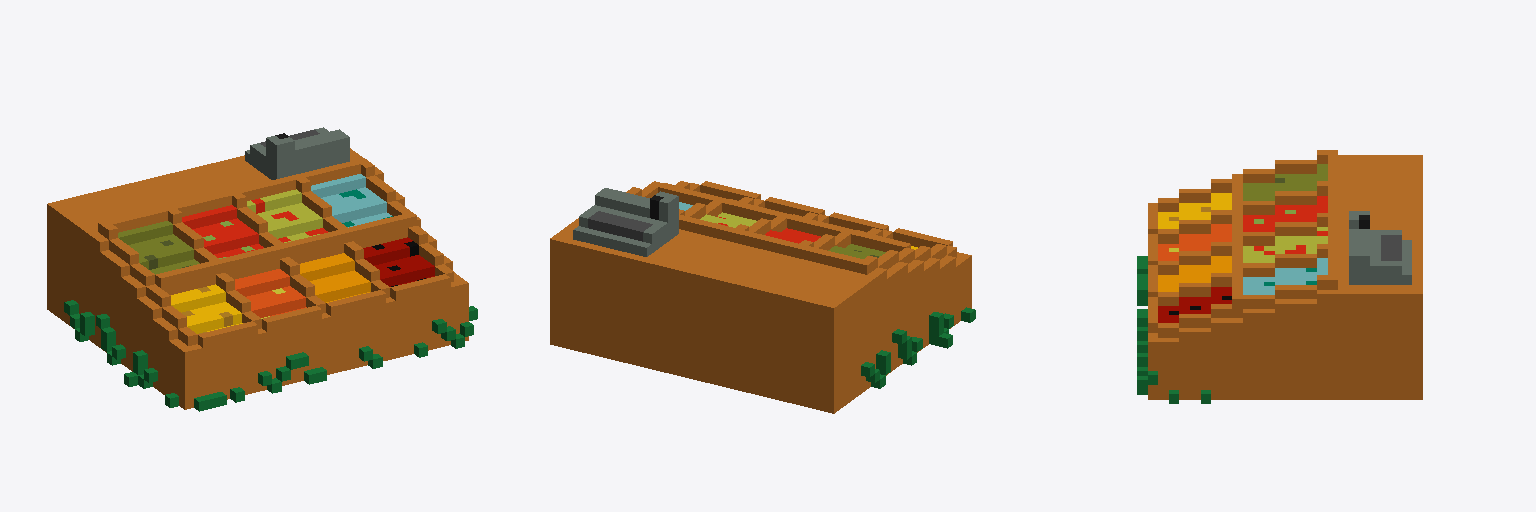
3 renders of one model, left to right at view 1: azimuth 30°, elevation 25°; view 2: azimuth 150°, elevation 25°; view 3: azimuth 270°, elevation 25°, orthographic.
Visible parts, largest first — view 1: object 1; view 2: object 1; view 3: object 1.
Part boxes in pixels (x1,y1,x2,y2): object 1: (47, 127, 477, 411); object 1: (550, 181, 975, 413); object 1: (1137, 150, 1422, 403).
Bounding box in the file's own units: 3.4 × 1.5 × 2.7.
Materials: 1 (1 with a texture image).